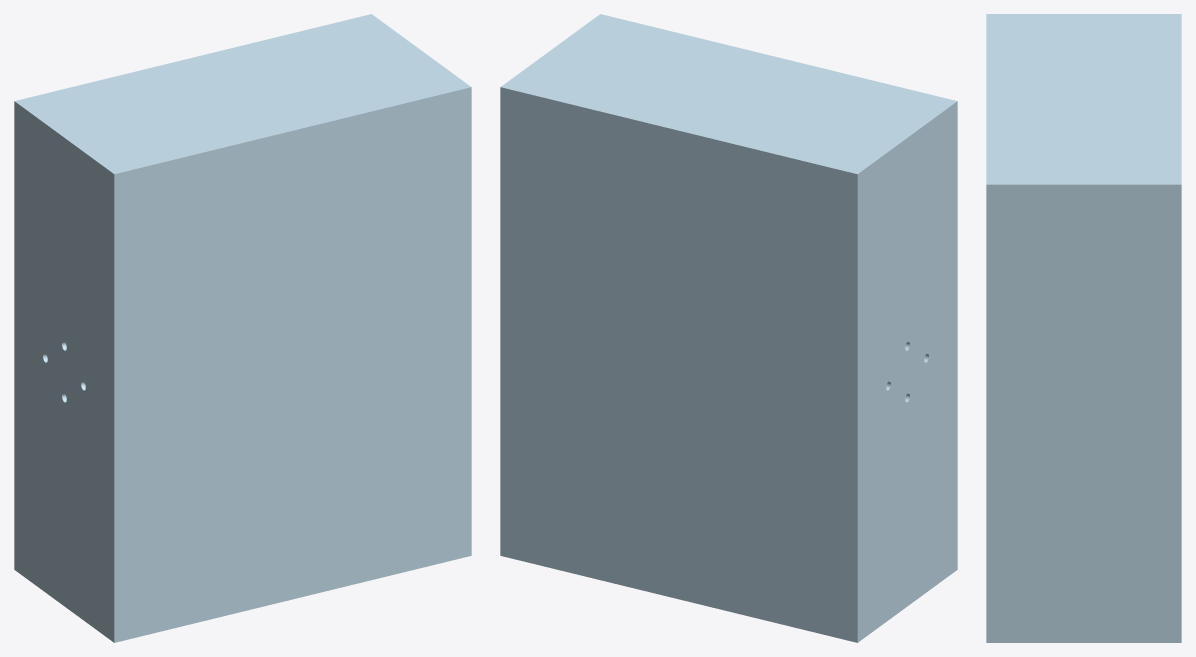
The model's file is SWITCH.gltf.
3 renders of one model, left to right at view 1: azimuth 30°, elevation 25°; view 2: azimuth 150°, elevation 25°; view 3: azimuth 270°, elevation 25°, orthographic. The views are drawn at different scales.
Visible parts, largest first — view 1: mesh7391, mesh7387, mesh7388; view 2: mesh7392, mesh7387, mesh7388; view 3: mesh7389, mesh7388.
Part boxes in pixels (bbox=[...]): mesh7391: bbox=[114, 87, 471, 642]; mesh7387: bbox=[14, 101, 114, 642]; mesh7388: bbox=[14, 14, 471, 174]; mesh7392: bbox=[500, 87, 857, 642]; mesh7387: bbox=[857, 101, 957, 642]; mesh7388: bbox=[500, 14, 957, 174]; mesh7389: bbox=[986, 184, 1181, 642]; mesh7388: bbox=[986, 14, 1181, 184].
Bounding box in the file's own units: 0.13 × 0.163 × 0.063.
